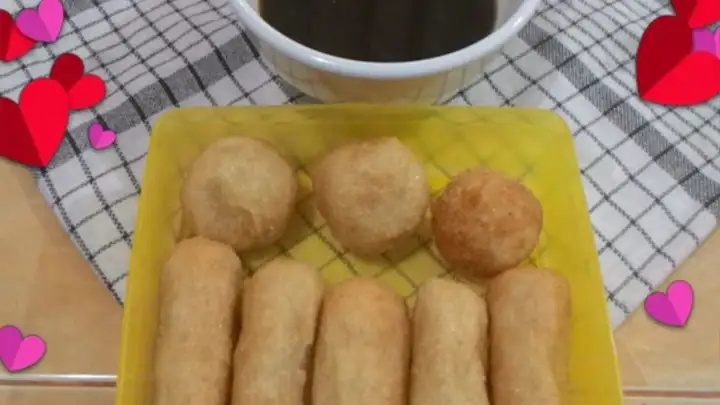pempek: (155, 138, 574, 405)
